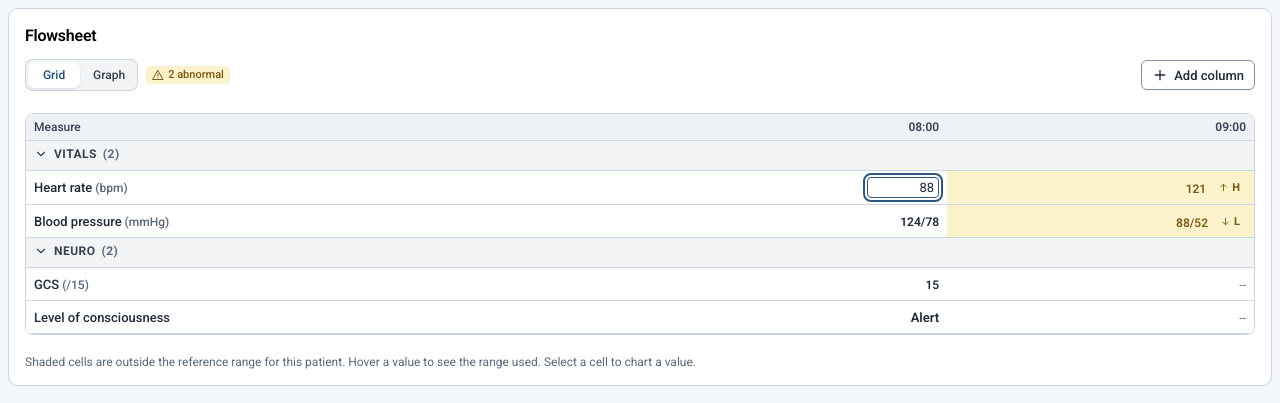
Flowsheet › Escape cancels an edit without saving
Type "0" into the field named "Heart rate at 08:00" at (903, 188), box x1=867 y1=177 x2=939 y2=198
Then press Escape
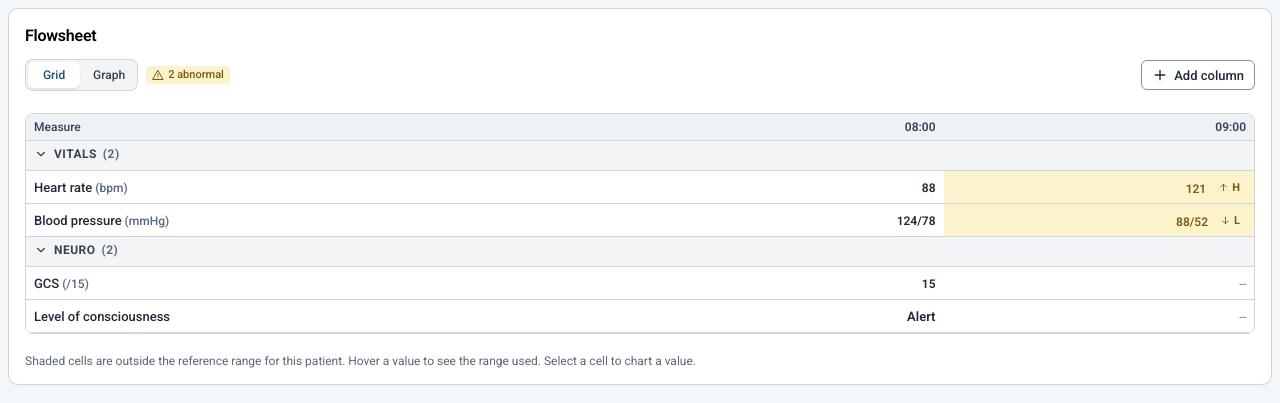
expect the button named "Edit Heart rate at 08:00, now 88 bpm" is shown: met, box x1=648 y1=177 x2=936 y2=197
